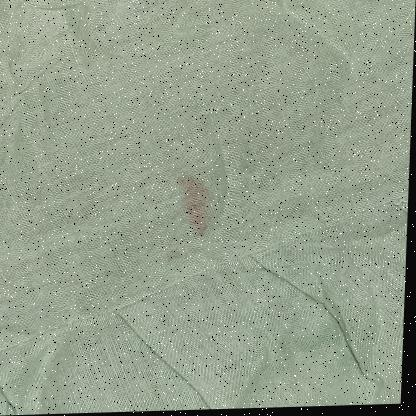spot: (159, 162, 228, 281)
